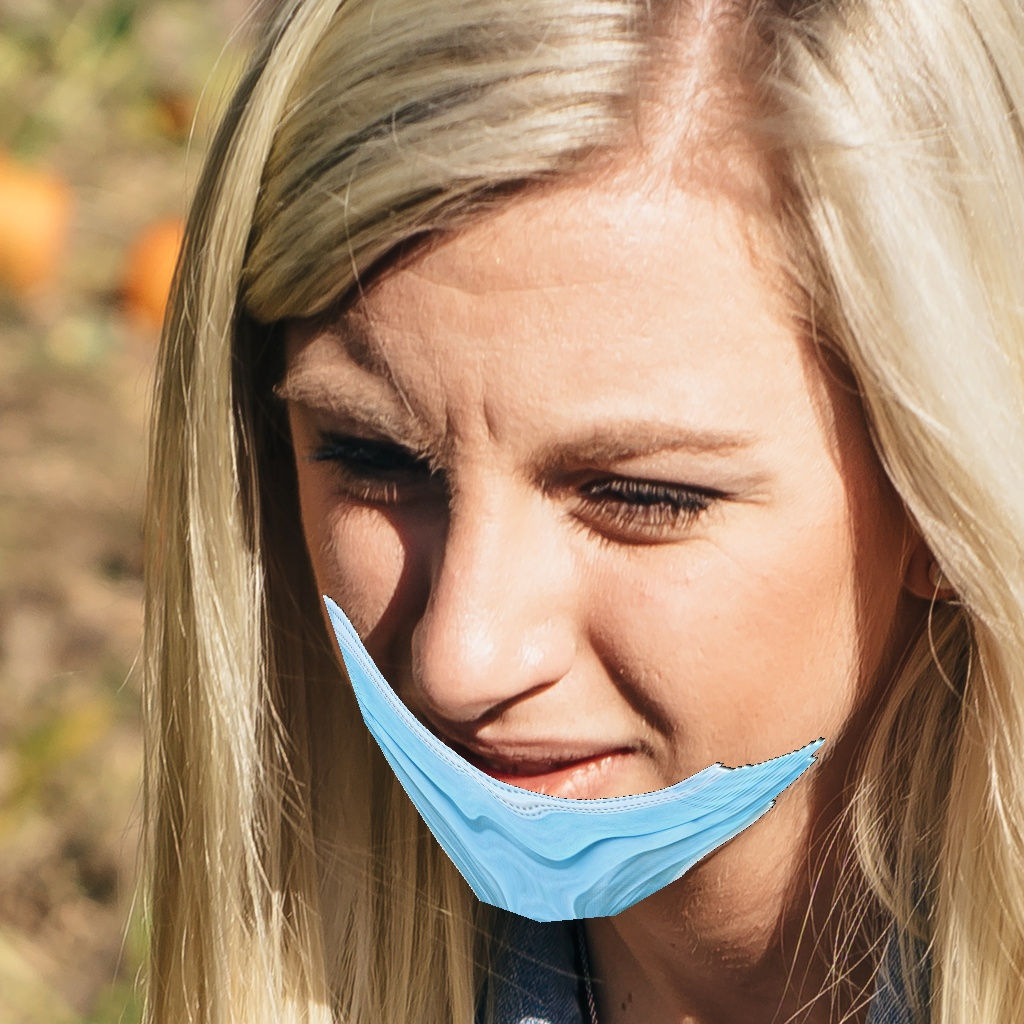mask_weared_incorrect: (259, 354, 892, 950)
